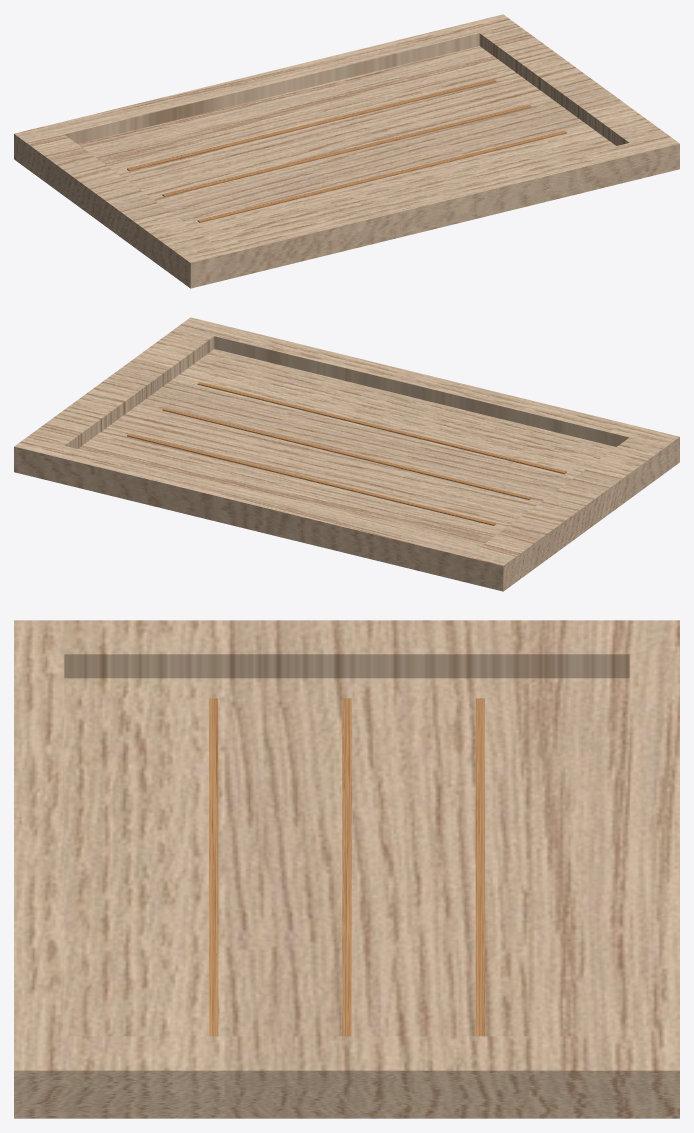
File: tea-tray.glb
The picture shows the model from 3 angles, top to bottom: view 1: azimuth 30°, elevation 25°; view 2: azimuth 150°, elevation 25°; view 3: azimuth 270°, elevation 25°; orthographic projection. The views are drawn at different scales.
Parts seen in each view (by area): view 1: Cube, Cube.001, Cube.003, Cube.002; view 2: Cube, Cube.001, Cube.002, Cube.003; view 3: Cube, Cube.001, Cube.002, Cube.003.
Boxes of the visible parts, x1,y1,x2,y2 form: Cube: (14,14,679,288); Cube.001: (162,104,531,196); Cube.003: (127,79,496,171); Cube.002: (197,130,566,222); Cube: (14,317,679,591); Cube.001: (162,407,531,499); Cube.002: (197,382,566,474); Cube.003: (127,433,496,525); Cube: (14,620,679,1118); Cube.001: (342,698,351,1036); Cube.002: (209,698,218,1036); Cube.003: (475,698,484,1036).
Bounding box in the file's own units: 4 × 0.2 × 2.5.
Materials: 4 (4 with a texture image).
